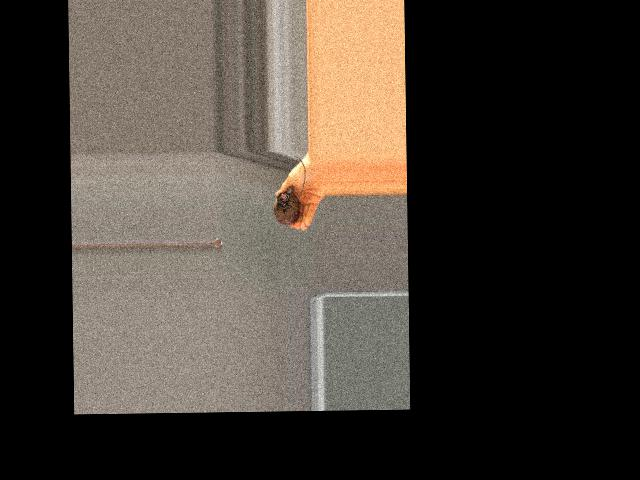beet: (273, 156, 306, 233)
